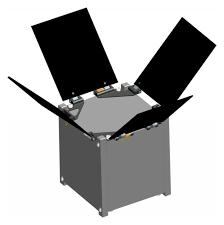body: (54, 80, 176, 218)
